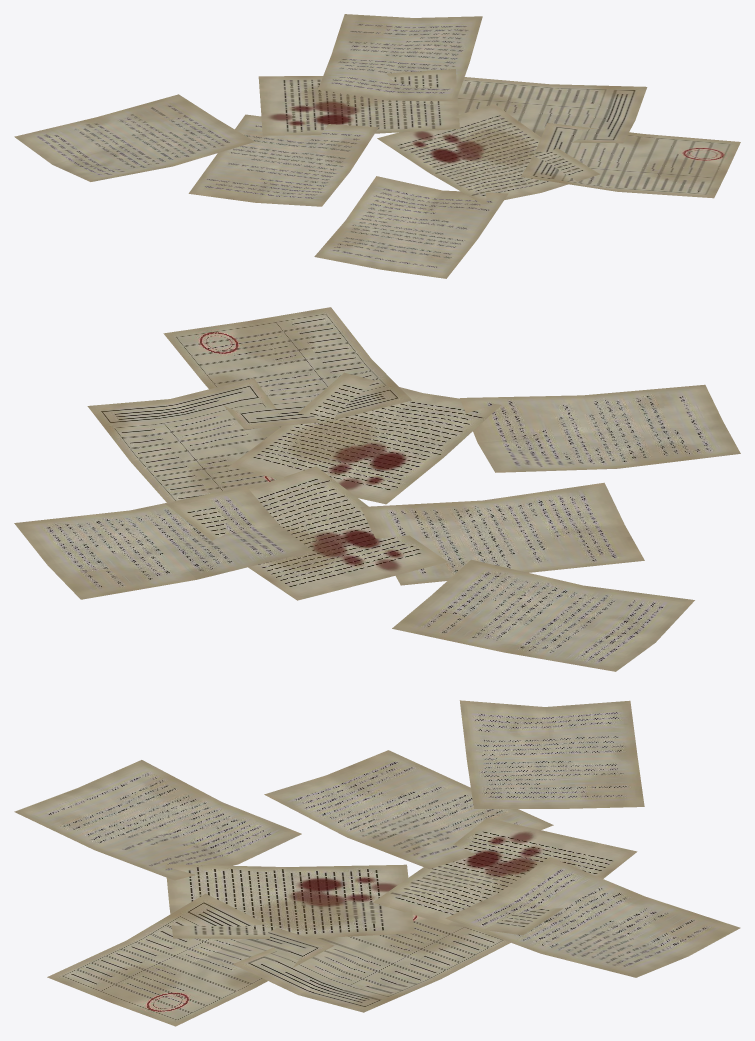
Rendered from papers.glb.
3 renders of one model, top to bottom at view 1: azimuth 30°, elevation 25°; view 2: azimuth 150°, elevation 25°; view 3: azimuth 270°, elevation 25°, orthographic. The views are drawn at different scales.
Visible parts, largest first — view 1: Papers; view 2: Papers; view 3: Papers.
Boxes of the visible parts, x1,y1,x2,y2 form: Papers: (14,14,740,278); Papers: (14,307,740,671); Papers: (14,700,740,1026).
Size of the model in its own units: 0.9413 by 0.0152 by 0.8929.
Materials: 1 (1 with a texture image).
